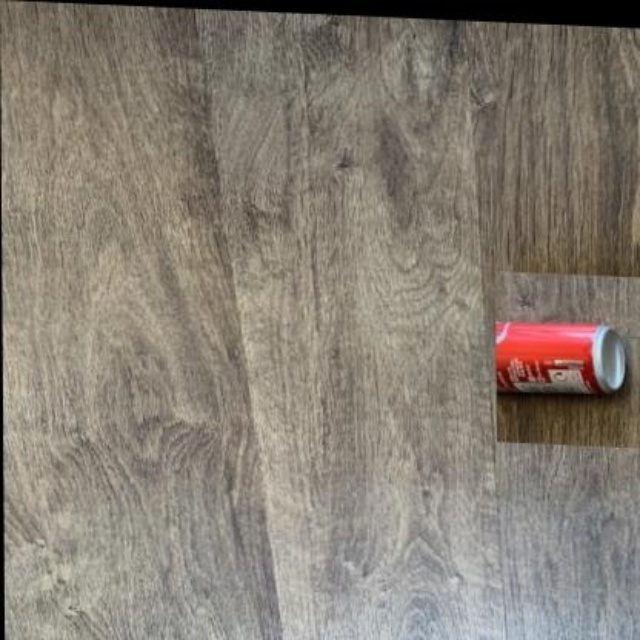trash: (495, 322, 625, 392)
